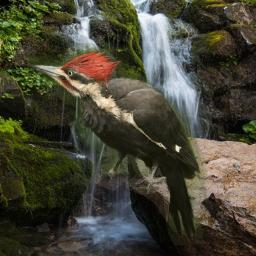Woodpecker: (27, 43, 214, 245)
